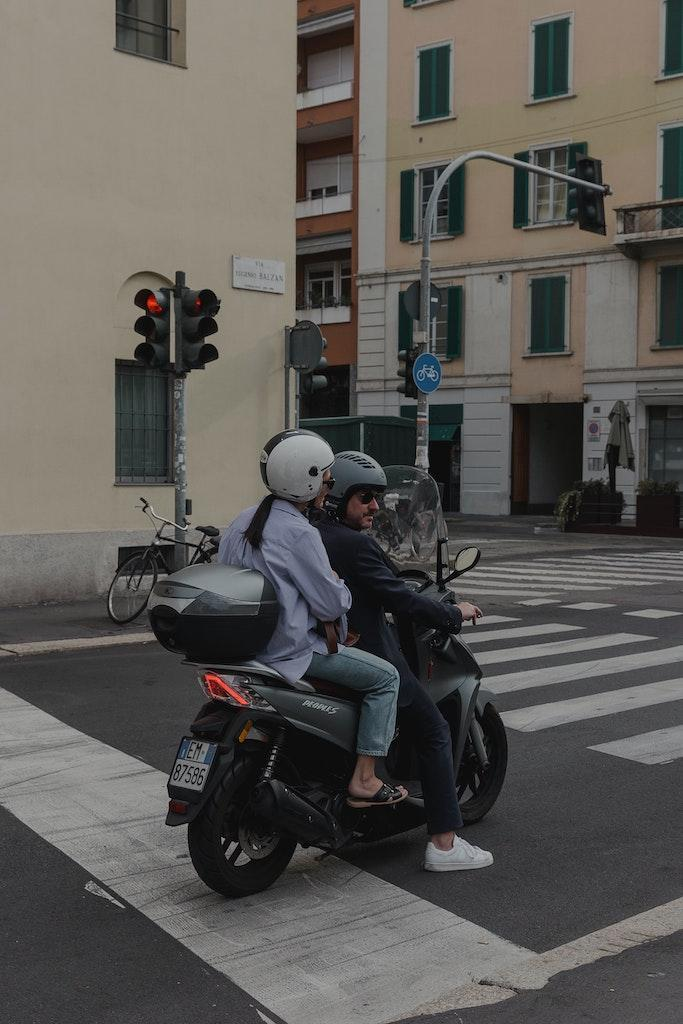helmet: (259, 427, 336, 511), (310, 450, 388, 532)
